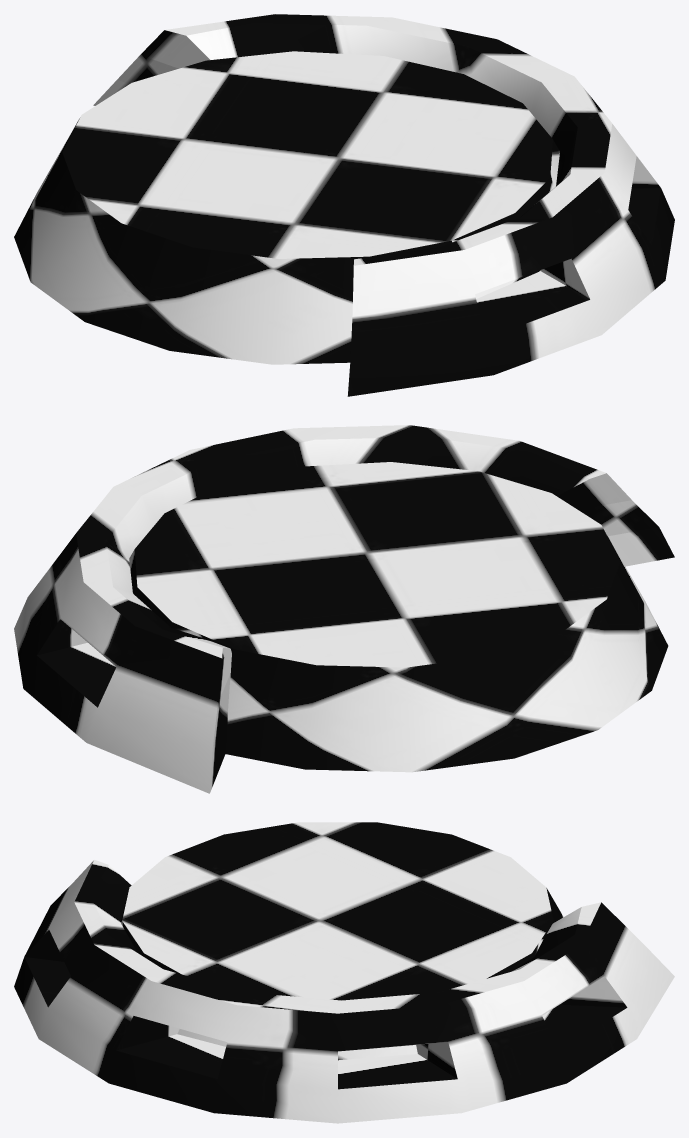
The model's file is plateforme.FBX.
3 renders of one model, top to bottom at view 1: azimuth 30°, elevation 25°; view 2: azimuth 150°, elevation 25°; view 3: azimuth 270°, elevation 25°, orthographic. The views are drawn at different scales.
Parts seen in each view (by area): view 1: Cylinder001, Tube002; view 2: Cylinder001, Tube002; view 3: Tube002, Cylinder001.
Part boxes in pixels (box(x1,y1,x2,y2)): Cylinder001: box(14, 51, 559, 364); Tube002: box(93, 14, 674, 396); Cylinder001: box(129, 462, 668, 772); Tube002: box(14, 425, 674, 793); Tube002: box(14, 860, 674, 1123); Cylinder001: box(121, 822, 563, 1060).
Size of the model in its own units: 89.32 by 15.05 by 102.
1 material, 1 textured.
